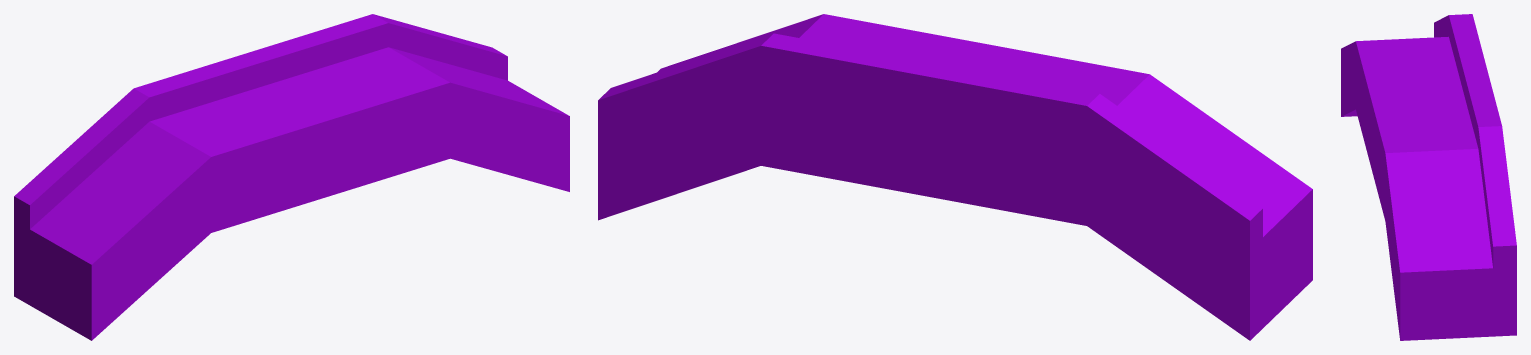
File: Ruina8.fbx
3 views of the same model, side by side, from view 1: azimuth 30°, elevation 25°; view 2: azimuth 150°, elevation 25°; view 3: azimuth 270°, elevation 25° (orthographic). The views are drawn at different scales.
Visible parts, largest first — view 1: Cube.001; view 2: Cube.001; view 3: Cube.001.
Part boxes in pixels (x1,y1,x2,y2): Cube.001: [14, 14, 569, 340]; Cube.001: [598, 14, 1312, 340]; Cube.001: [1341, 14, 1516, 340].
Bounding box in the file's own units: 4541 × 1416 × 1471.
